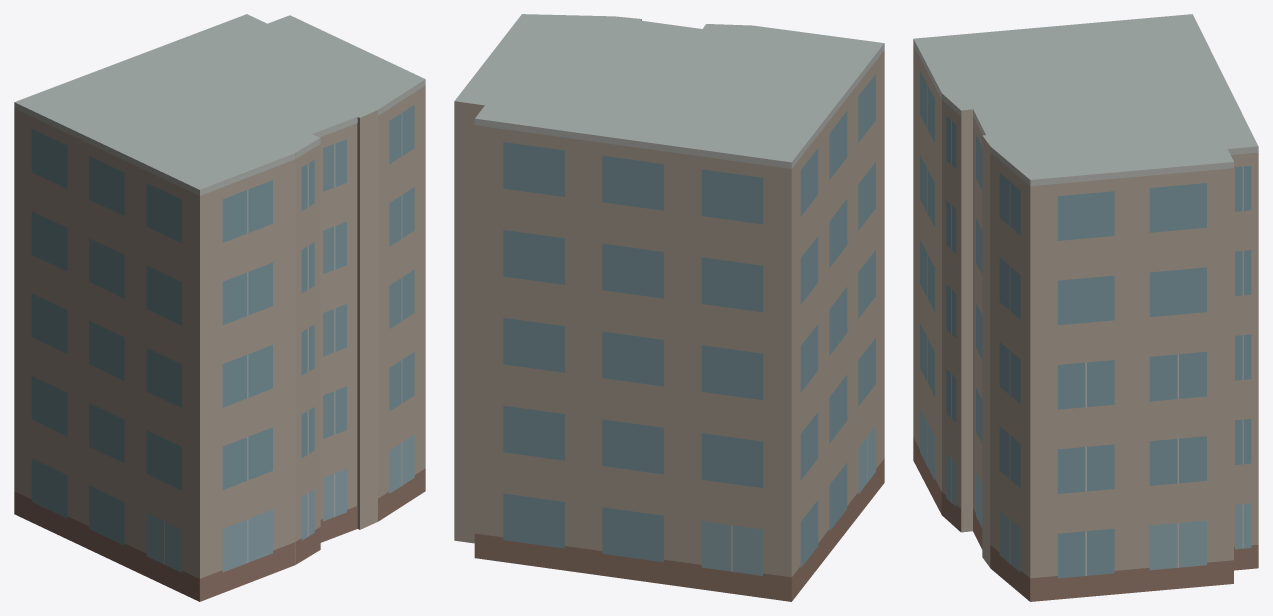
Rendered from survey-upis-32962797.glb.
The picture shows the model from 3 angles, left to right: view 1: azimuth 30°, elevation 25°; view 2: azimuth 150°, elevation 25°; view 3: azimuth 270°, elevation 25°; orthographic projection. The views are drawn at different scales.
Parts seen in each view (by area): view 1: survey-upis-32962797.tmp; view 2: survey-upis-32962797.tmp; view 3: survey-upis-32962797.tmp.
Boxes of the visible parts, left/top/right/bottom form: survey-upis-32962797.tmp: left=14, top=14, right=425, bottom=601; survey-upis-32962797.tmp: left=454, top=14, right=884, bottom=601; survey-upis-32962797.tmp: left=913, top=14, right=1258, bottom=601.
Bounding box in the file's own units: 13.85 × 16.4 × 12.17.
